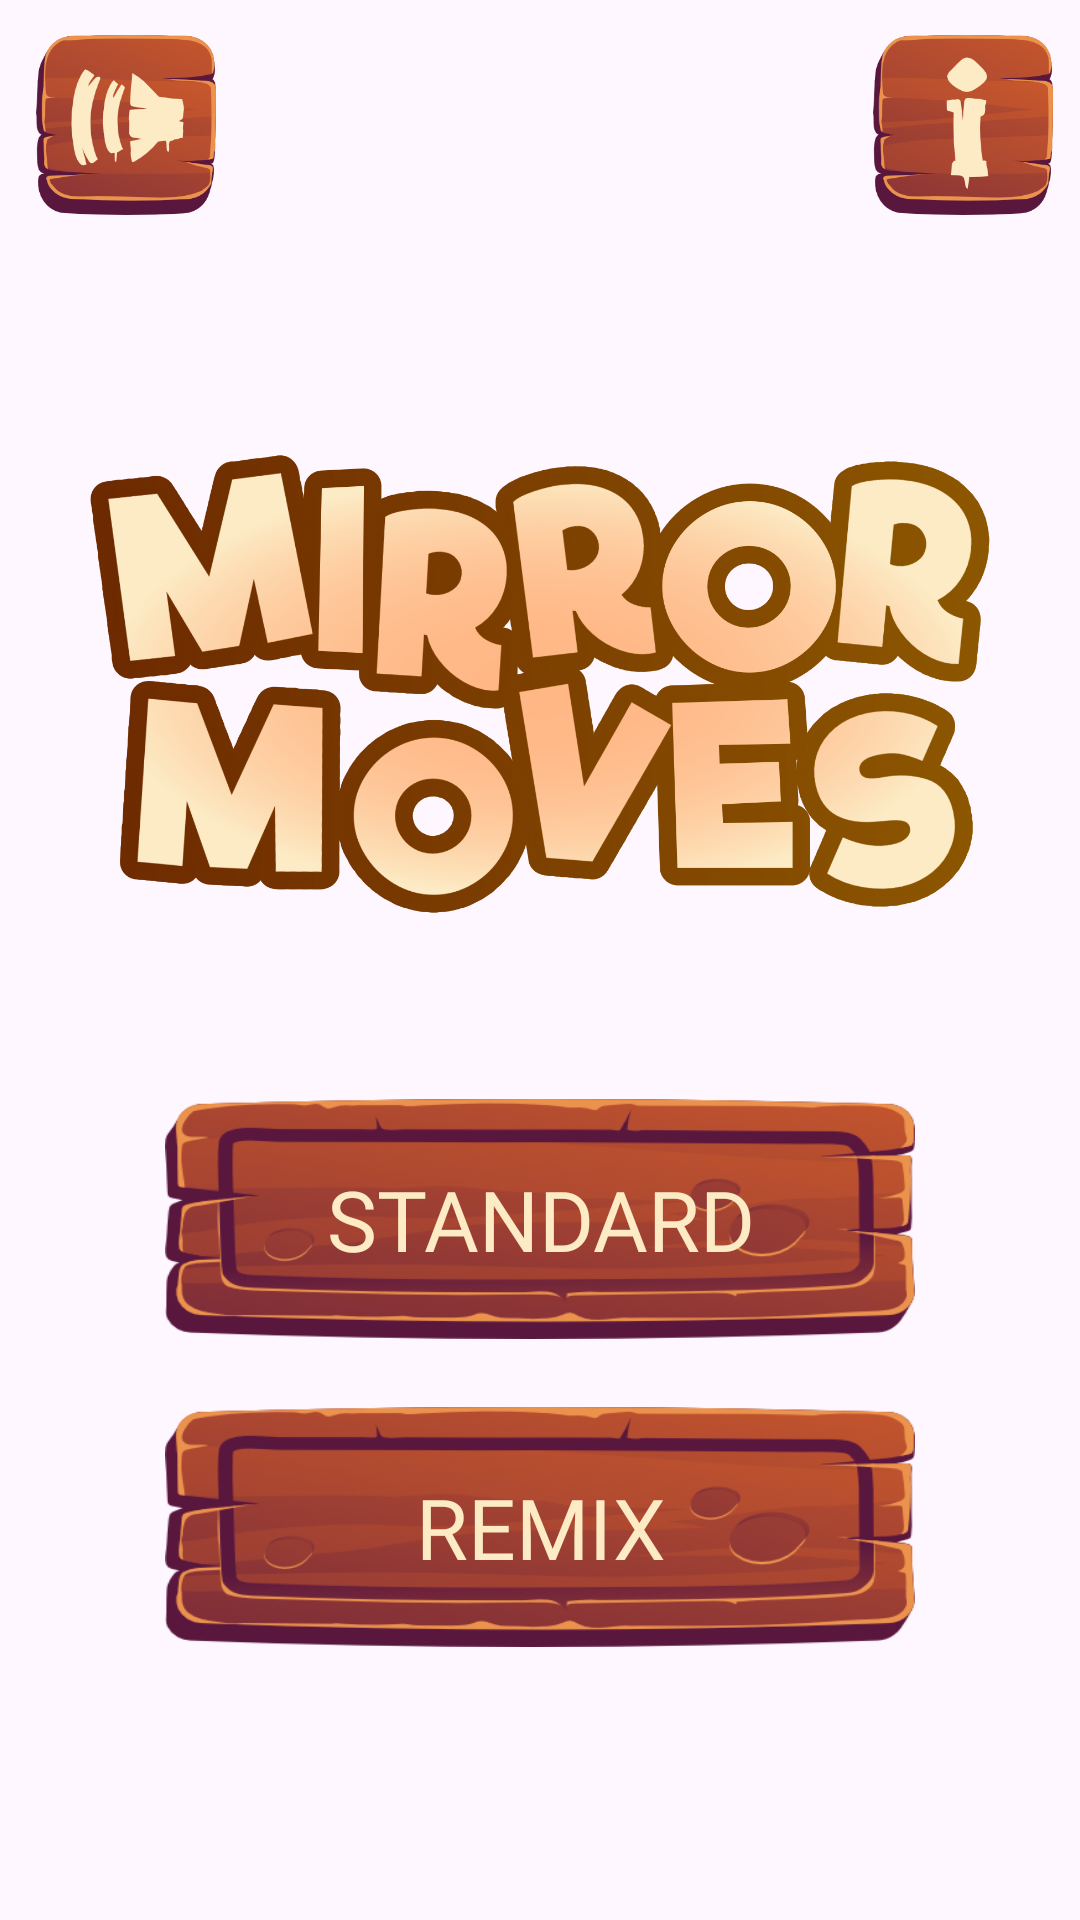

Named icons in this screenshot (1080x1920) and their bounding boxes, detection(x1, y1, x2, y2):
About Us: detection(873, 35, 1053, 215)
Sound Toggle: detection(36, 35, 216, 215)
